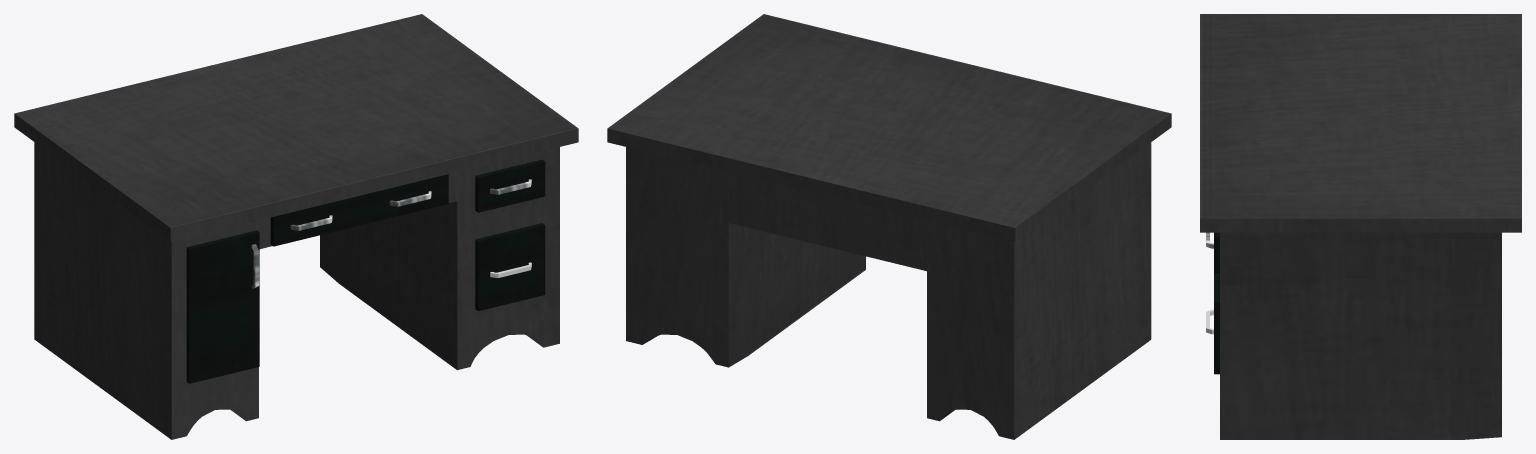
The model's file is Office Desk.fbx.
3 views of the same model, side by side, from view 1: azimuth 30°, elevation 25°; view 2: azimuth 150°, elevation 25°; view 3: azimuth 270°, elevation 25° (orthographic). The views are drawn at different scales.
Visible parts, largest first — view 1: Desk, Box 4, Box 3, Box 2, Box 1; view 2: Desk; view 3: Desk, Box 2.
Boxes of the visible parts, box(x1,y1,x2,y2) form: Desk: box(14, 14, 578, 439); Box 4: box(186, 230, 259, 383); Box 3: box(270, 174, 448, 246); Box 2: box(475, 223, 545, 311); Box 1: box(475, 159, 545, 212); Desk: box(607, 14, 1171, 439); Desk: box(1200, 14, 1521, 439); Box 2: box(1214, 273, 1219, 374).
Size of the model in its own units: 1219 by 633 by 811.
